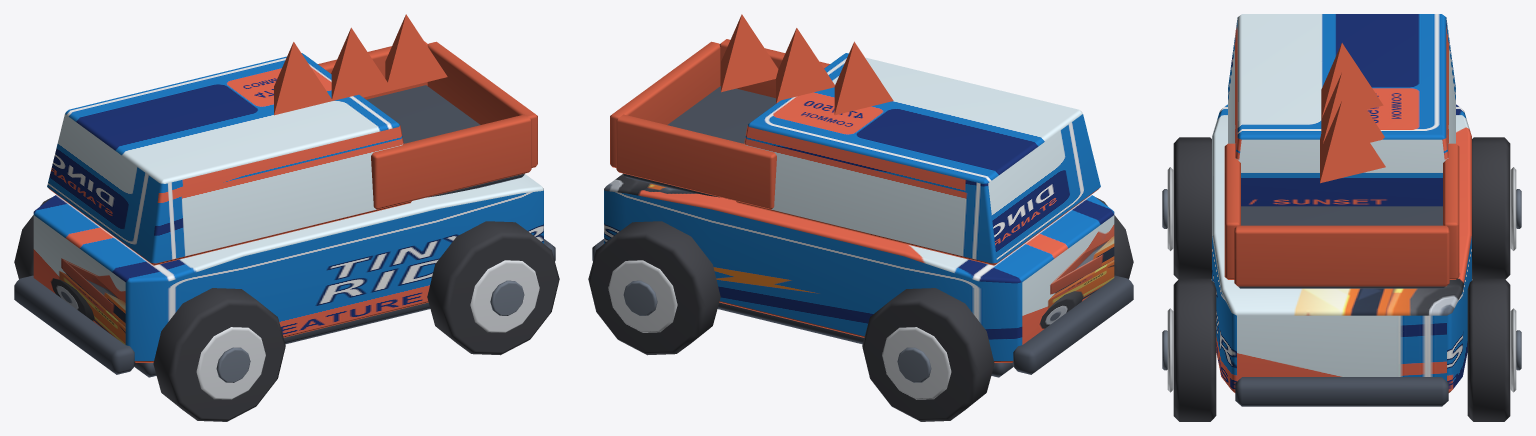
The picture shows the model from 3 angles, left to right: view 1: azimuth 30°, elevation 25°; view 2: azimuth 150°, elevation 25°; view 3: azimuth 270°, elevation 25°; orthographic projection. The views are drawn at different scales.
Visible parts, largest first — view 1: CR-03_cabin, CR-03_connected_shell, Tire.002, Tire, cargo side, front bumper, cargo tail, cargo floor, Rim, Rim.002, back plate.002, back plate.001 (+6 smaller); view 2: CR-03_cabin, CR-03_connected_shell, Tire.003, Tire.001, cargo side.001, cargo tail, front bumper, cargo floor, Rim.001, Rim.003, back plate.002, back plate.001 (+6 smaller); view 3: CR-03_cabin, CR-03_connected_shell, cargo tail, rear bumper, Tire.002, Tire.003, Tire, Tire.001, cargo floor, back plate.002, cargo side, cargo side.001 (+6 smaller).
Part boxes in pixels (x1,y1,x2,y2): CR-03_cabin: (47,53,411,265); CR-03_connected_shell: (33,174,543,362); Tire.002: (427,221,559,355); Tire: (153,288,285,421); cargo side: (371,114,531,209); front bumper: (14,275,135,374); cargo tail: (427,41,537,167); cargo floor: (366,85,524,197); Rim: (196,327,265,399); Rim.002: (470,260,539,332); back plate.002: (385,14,447,90); back plate.001: (331,27,392,100); CR-03_cabin: (736,53,1100,265); CR-03_connected_shell: (604,174,1114,362); Tire.003: (588,221,720,355); Tire.001: (862,288,994,421); cargo side.001: (616,114,776,209); cargo tail: (610,41,720,167); front bumper: (1012,275,1133,374); cargo floor: (623,86,775,197); Rim.001: (882,327,951,399); Rim.003: (608,260,677,332); back plate.002: (721,14,778,92); back plate.001: (776,28,834,103); CR-03_cabin: (1228,14,1455,206); CR-03_connected_shell: (1212,104,1471,392); cargo tail: (1234,225,1449,286); rear bumper: (1235,377,1448,406); Tire.002: (1173,278,1216,421); Tire.003: (1467,278,1510,421); Tire: (1173,137,1211,279); Tire.001: (1472,137,1510,279); cargo floor: (1238,206,1445,288); back plate.002: (1320,101,1385,183); cargo side: (1224,143,1240,279); cargo side.001: (1443,143,1459,279).
Bounding box in the file's own units: 333 × 206 × 220.
